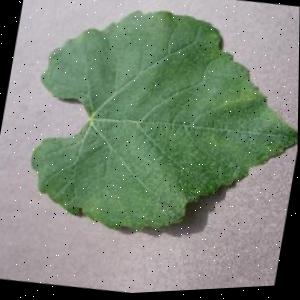Folha: (15, 0, 300, 262)
